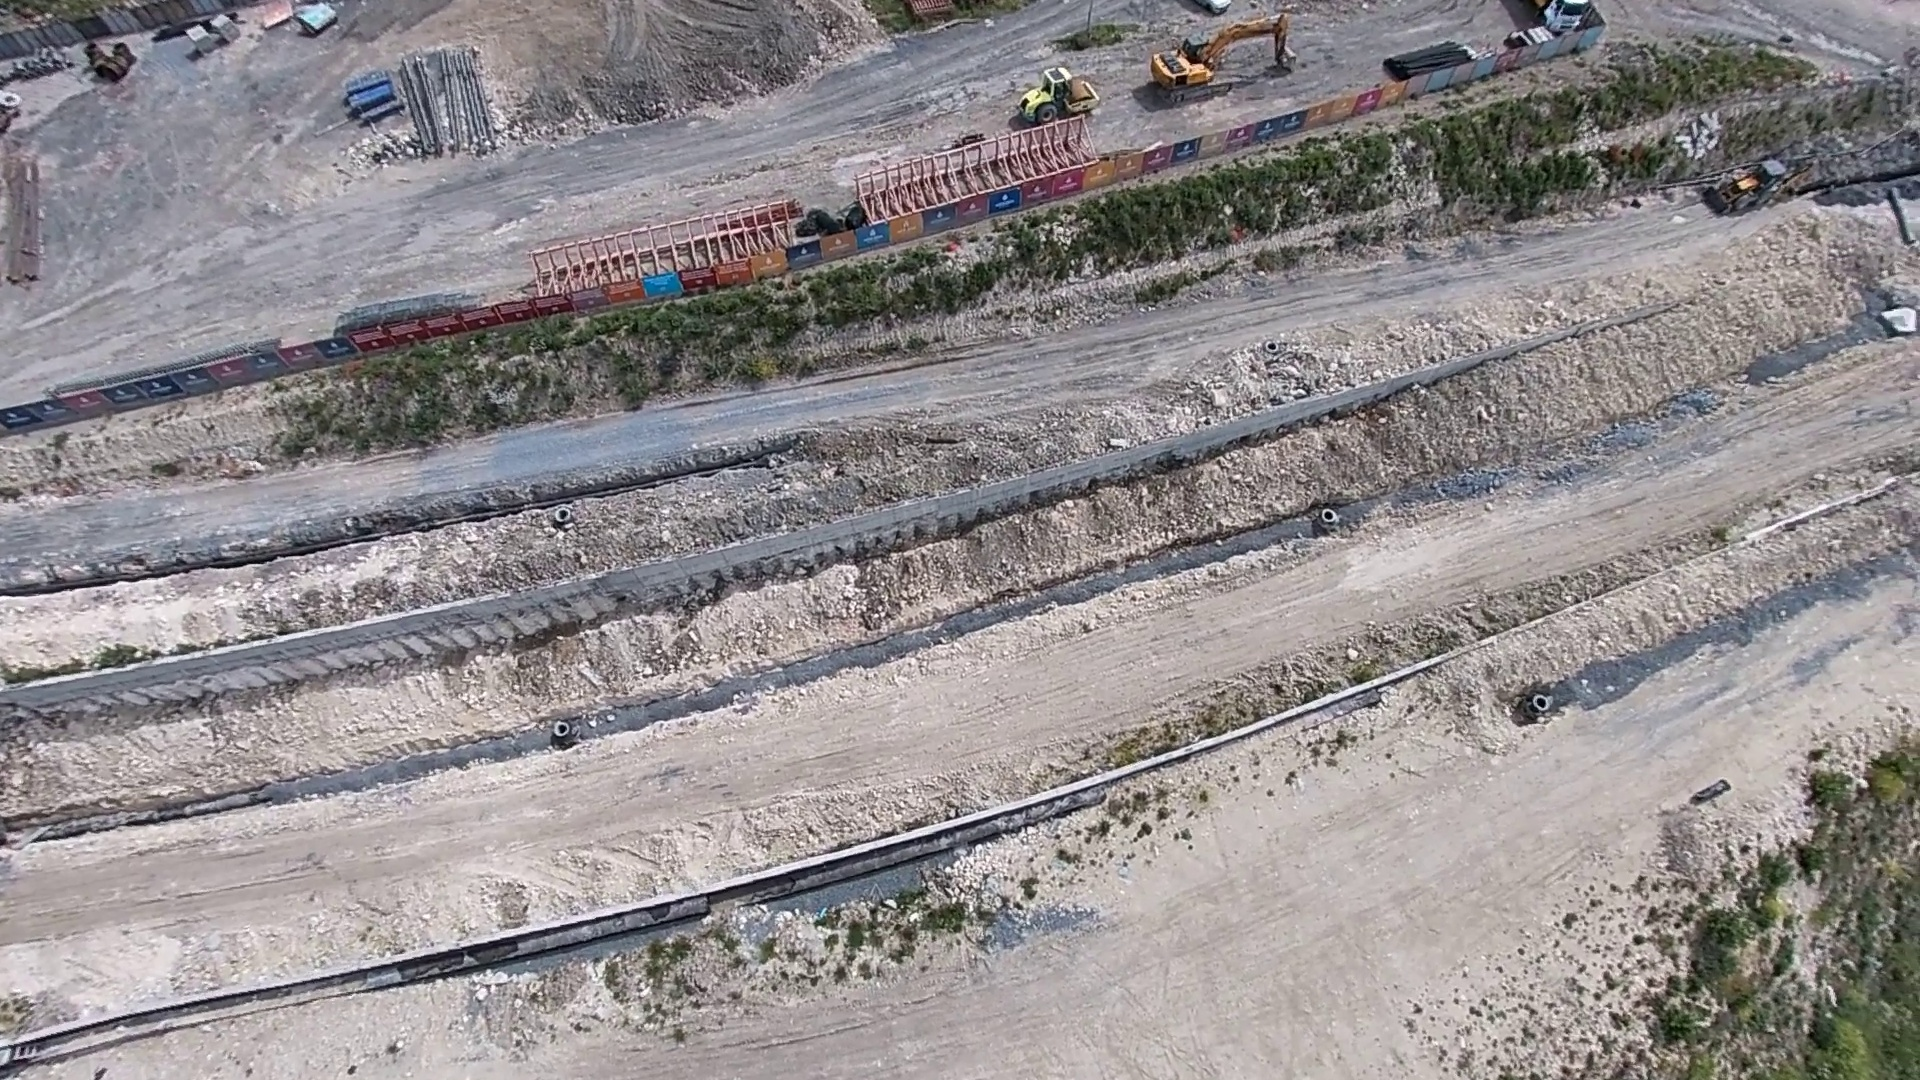ismakinesi: (1149, 7, 1302, 100)
kamyon: (1593, 1, 1636, 51)
traktor: (1007, 59, 1105, 131)
